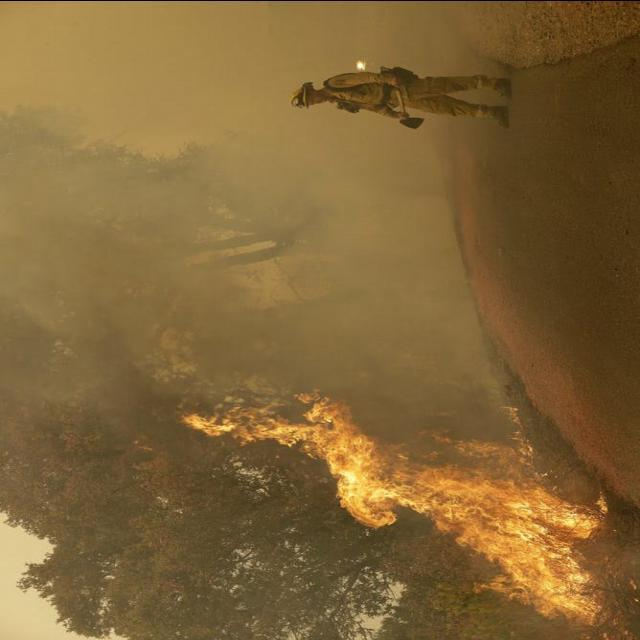Fire: (170, 385, 564, 629)
